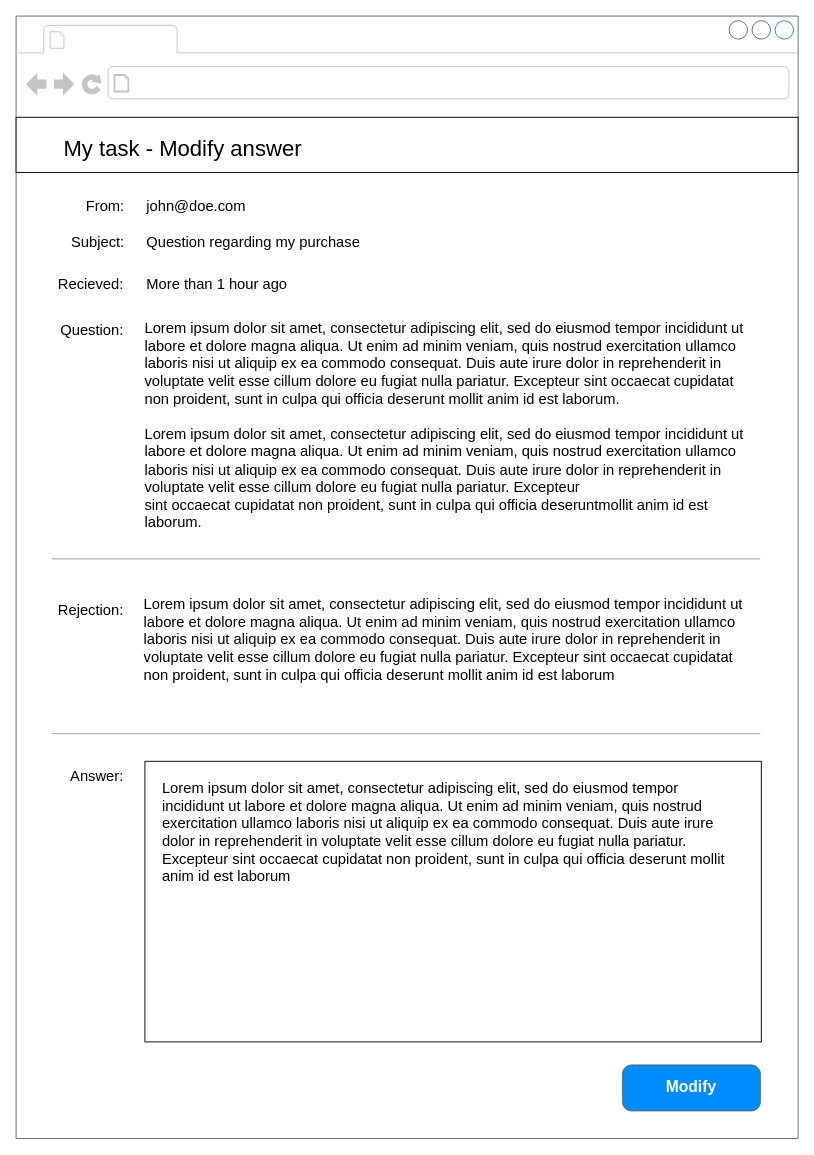
Some shapes in this 814 by 1155 pixel diagram are drawn without their labels. Each missing label, with the centre of its shape:
https://www.tasks.com/my-tasks/956744763423: point (314, 81)
My task - mod: point (121, 39)
